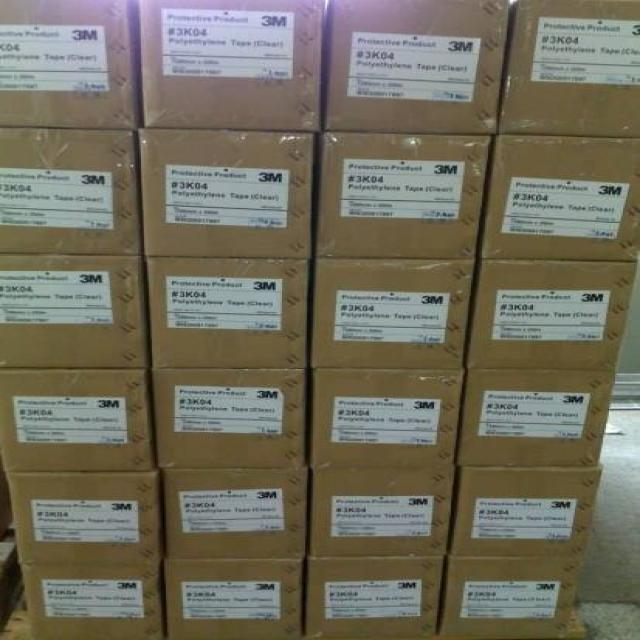box: (319, 1, 510, 135), (136, 1, 327, 133), (135, 127, 315, 261), (318, 133, 494, 259), (482, 135, 638, 261), (463, 261, 635, 373), (143, 256, 315, 367), (308, 258, 479, 369), (502, 1, 640, 138), (2, 126, 143, 256), (2, 251, 152, 369), (3, 1, 139, 129), (0, 366, 155, 472), (152, 367, 308, 469), (456, 369, 615, 467), (310, 369, 462, 467), (6, 469, 164, 562), (158, 466, 310, 558), (449, 467, 601, 557), (310, 466, 456, 554), (301, 553, 449, 639), (439, 555, 586, 640), (164, 558, 304, 640), (20, 562, 166, 640)
